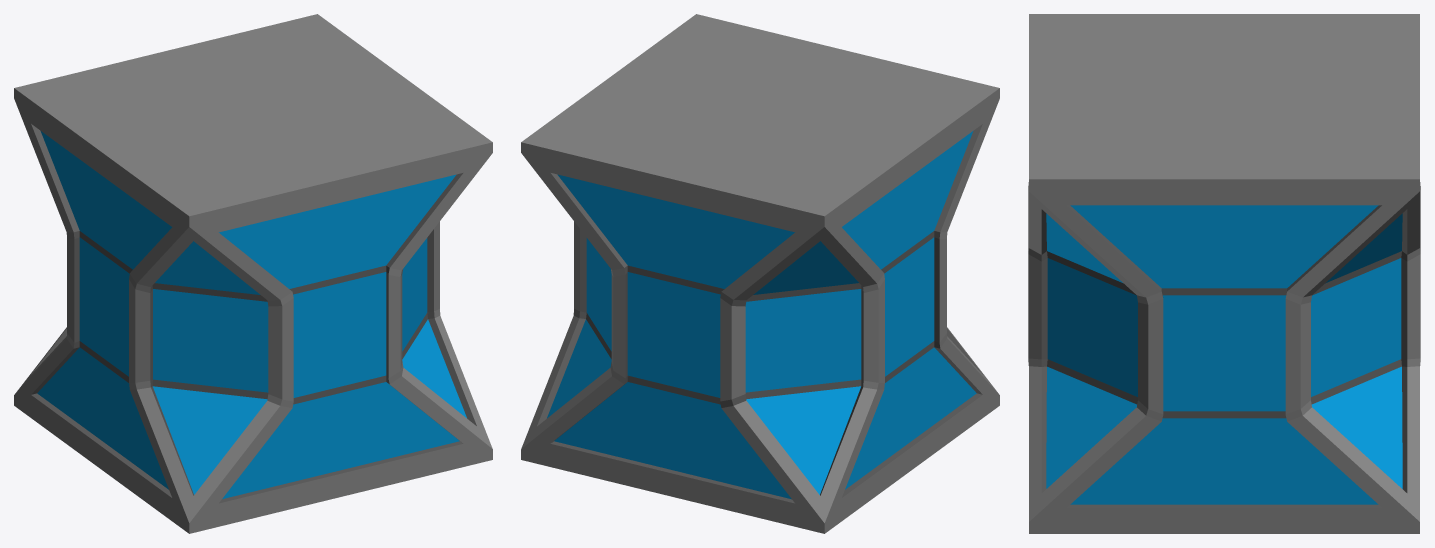
Rendered from Floor5.glb.
3 renders of one model, left to right at view 1: azimuth 30°, elevation 25°; view 2: azimuth 150°, elevation 25°; view 3: azimuth 270°, elevation 25°, orthographic. The views are drawn at different scales.
Parts seen in each view (by area): view 1: Cube; view 2: Cube; view 3: Cube.
Boxes of the visible parts, x1=… form: Cube: x1=14, y1=14, x2=492, y2=533; Cube: x1=521, y1=14, x2=999, y2=533; Cube: x1=1028, y1=14, x2=1420, y2=533.
Bounding box in the file's own units: 16.06 × 16 × 16.06.
2 materials, 2 textured.
